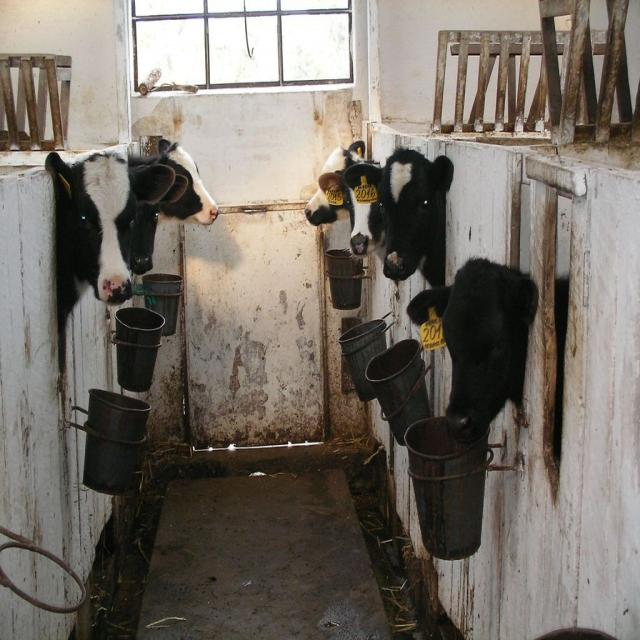Cattle: (44, 139, 570, 443)
